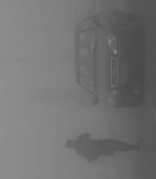person: (64, 132, 141, 163)
